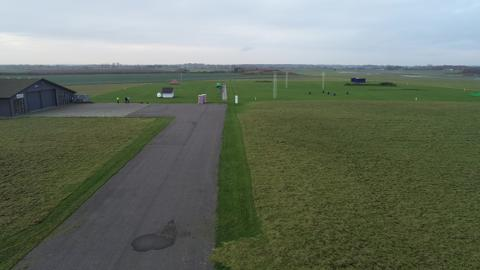RockwoolPallet: (201, 93, 207, 104)
